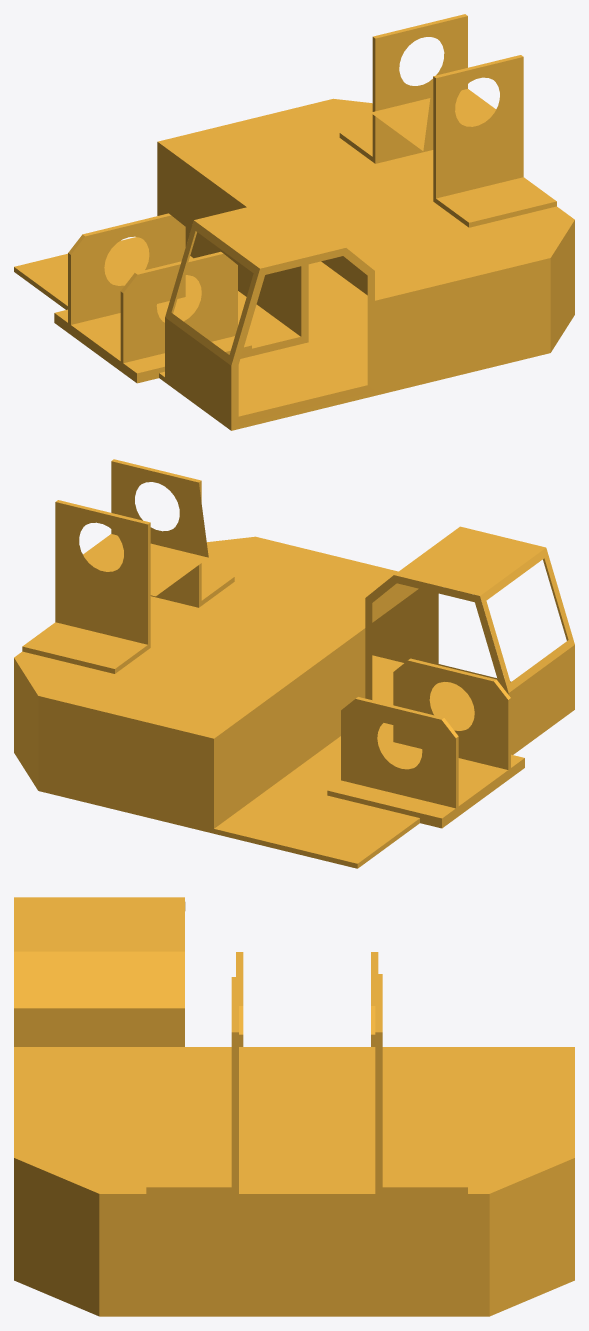
File: cockpit.obj
The picture shows the model from 3 angles, top to bottom: view 1: azimuth 30°, elevation 25°; view 2: azimuth 150°, elevation 25°; view 3: azimuth 270°, elevation 25°; orthographic projection. The views are drawn at different scales.
Visible parts, largest first — view 1: Body.004_ID926; view 2: Body.004_ID926; view 3: Body.004_ID926.
Boxes of the visible parts, <box> form: Body.004_ID926: <box>14,14,574,430</box>; Body.004_ID926: <box>14,459,574,868</box>; Body.004_ID926: <box>14,897,574,1316</box>.
Bounding box in the file's own units: 68.07 × 40.86 × 64.3.
